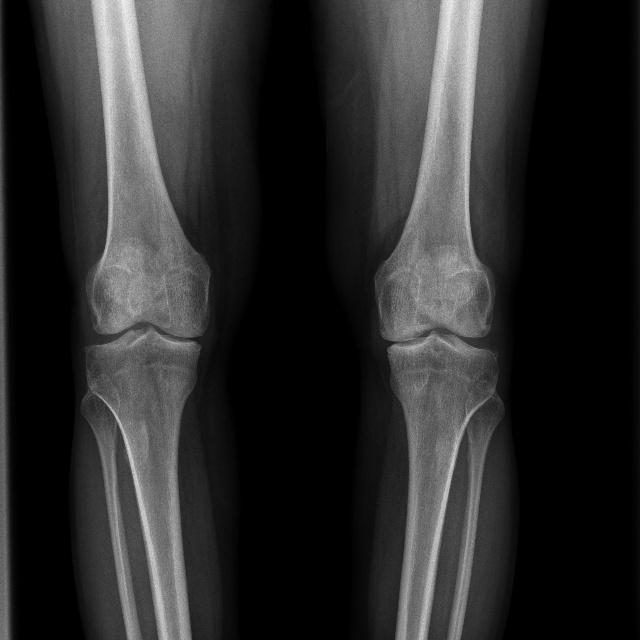Knee: (81, 268, 212, 393), (370, 274, 504, 394)
